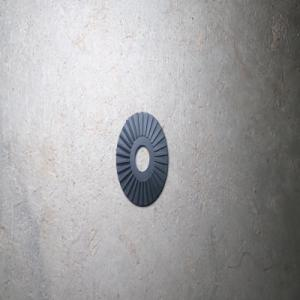Washer: (116, 111, 168, 207)
